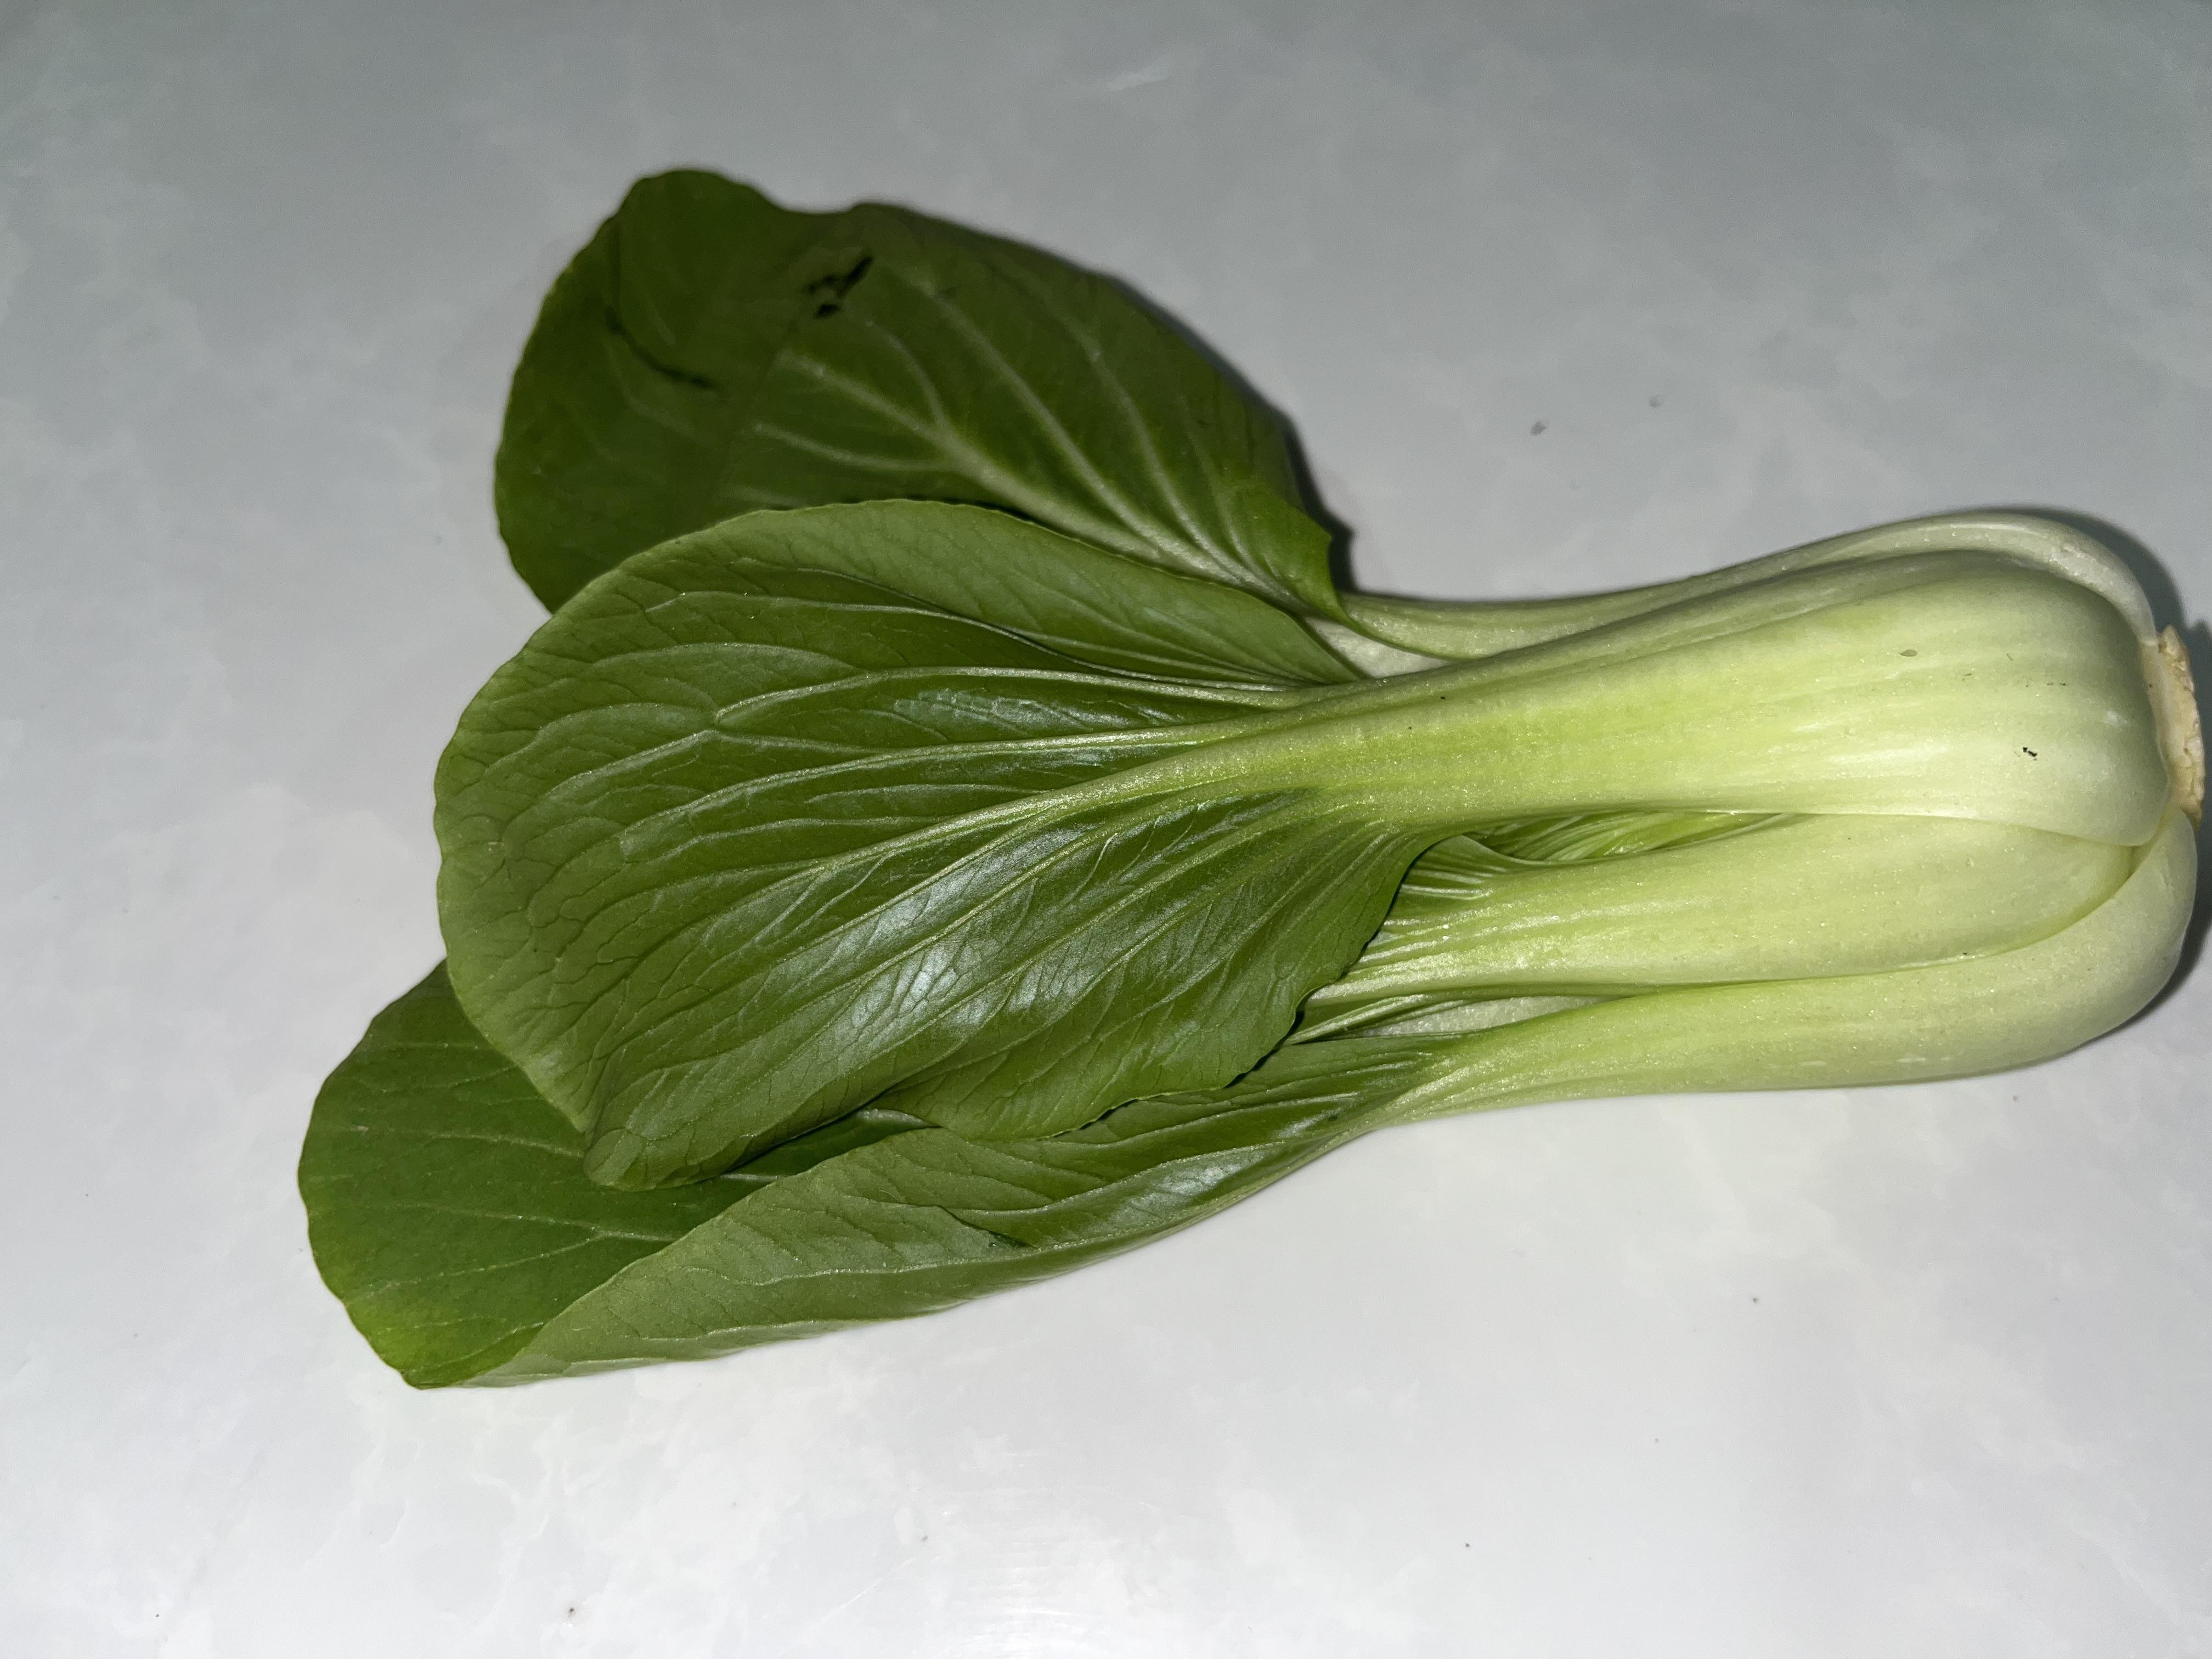Healthy-Pechay: (329, 197, 2146, 1366)
